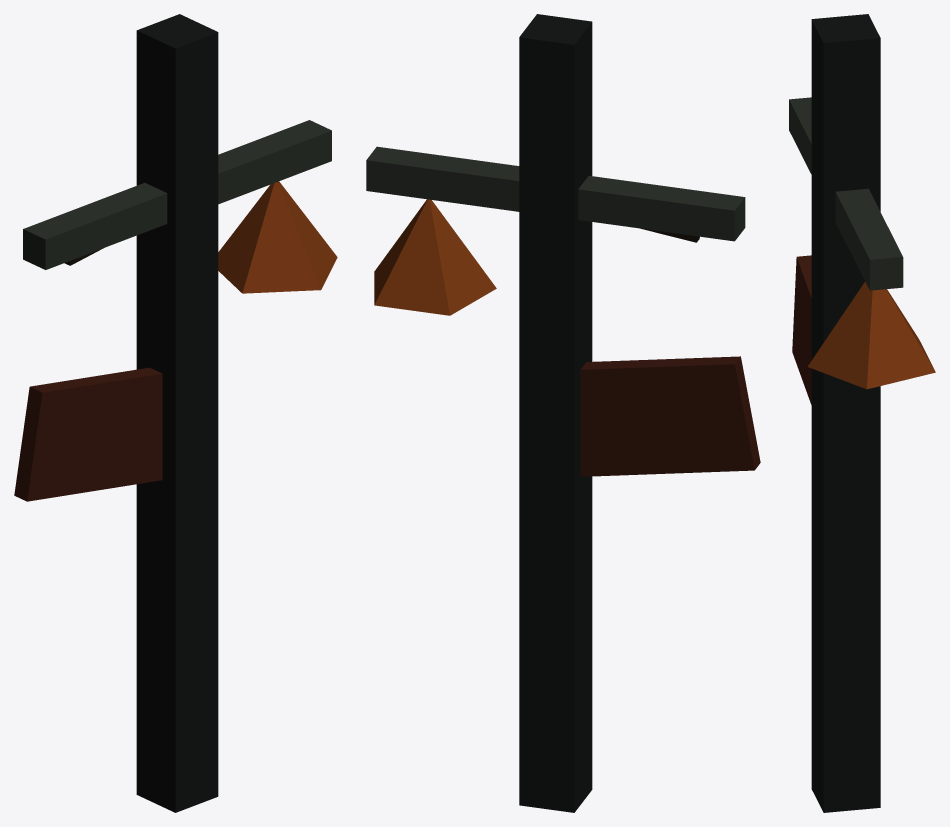
File: prop_utility_pole.obj
The picture shows the model from 3 angles, left to right: view 1: azimuth 30°, elevation 25°; view 2: azimuth 150°, elevation 25°; view 3: azimuth 270°, elevation 25°; orthographic projection.
Visible parts, largest first — view 1: MilitaryStructure13; view 2: MilitaryStructure13; view 3: MilitaryStructure13.
Part boxes in pixels (x1,y1,x2,y2): MilitaryStructure13: (14,14,337,812); MilitaryStructure13: (366,14,760,812); MilitaryStructure13: (789,14,935,812).
Bounding box in the file's own units: 1.68 × 3.5 × 0.6057.
